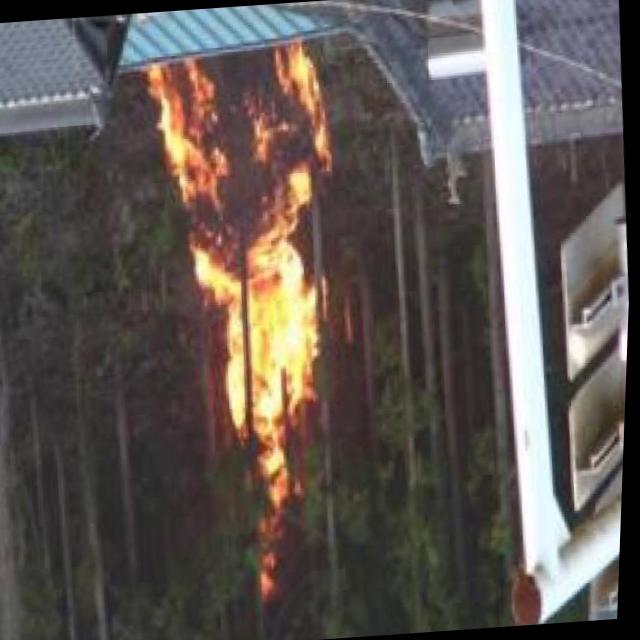Fire: (141, 42, 358, 437)
